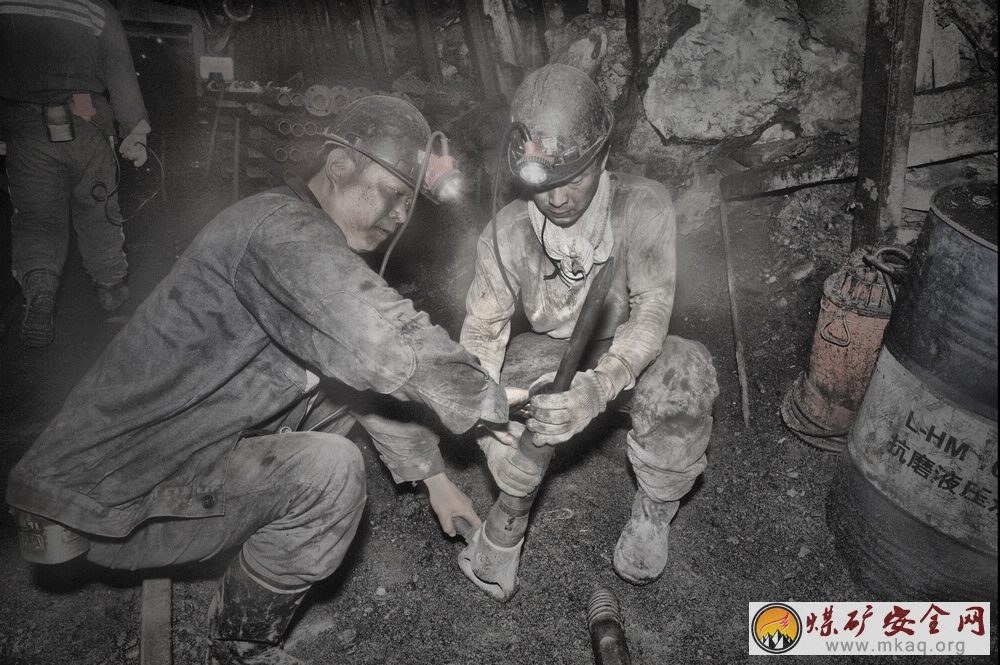helmet: (306, 92, 473, 265), (494, 69, 622, 232)
